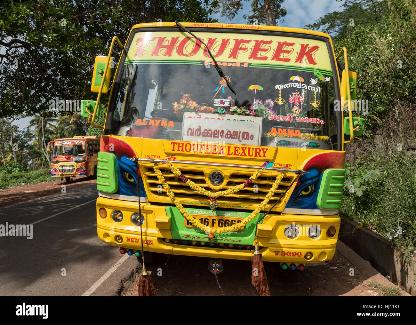bus: (91, 18, 358, 270), (43, 130, 97, 192)
